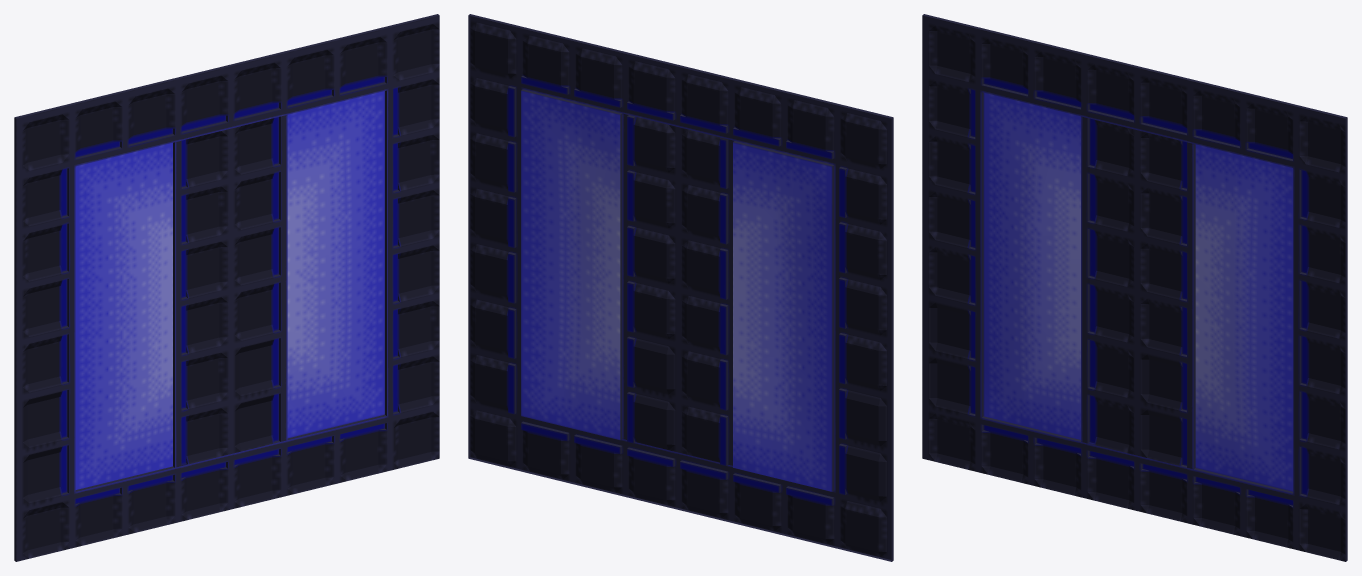
The model's file is med1_5.fbx.
3 views of the same model, side by side, from view 1: azimuth 30°, elevation 25°; view 2: azimuth 150°, elevation 25°; view 3: azimuth 330°, elevation 25° (orthographic).
Visible parts, largest first — view 1: med1_5_mesh; view 2: med1_5_mesh; view 3: med1_5_mesh.
Part boxes in pixels (box(x1,y1,x2,y2)): med1_5_mesh: box(14, 14, 439, 561); med1_5_mesh: box(468, 14, 893, 561); med1_5_mesh: box(922, 14, 1347, 561).
Size of the model in its own units: 256 by 256 by 3.
